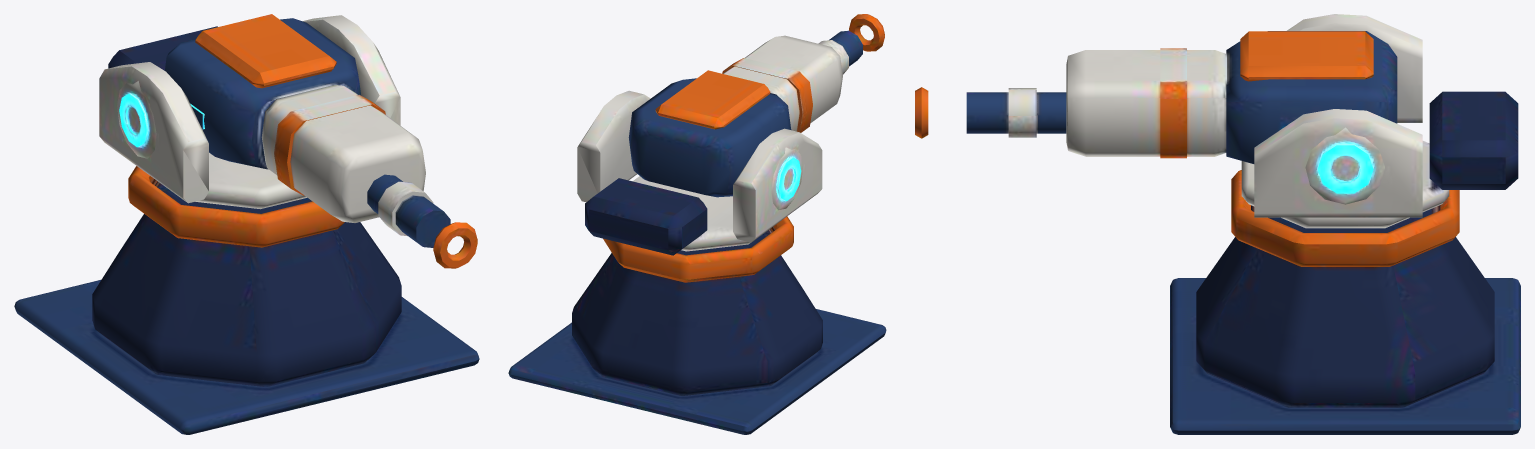
The model's file is R4W_Basic_LOD1.glb.
The picture shows the model from 3 angles, left to right: view 1: azimuth 30°, elevation 25°; view 2: azimuth 150°, elevation 25°; view 3: azimuth 270°, elevation 25°; orthographic projection. The views are drawn at different scales.
Parts seen in each view (by area): view 1: R4W_Basic_LOD1; view 2: R4W_Basic_LOD1; view 3: R4W_Basic_LOD1.
Part boxes in pixels (box(x1,y1,x2,y2)): R4W_Basic_LOD1: box(14, 14, 479, 434); R4W_Basic_LOD1: box(508, 14, 886, 434); R4W_Basic_LOD1: box(915, 14, 1520, 434).
Size of the model in its own units: 0.5 by 0.496 by 0.8635.
Materials: 4 (4 with a texture image).
